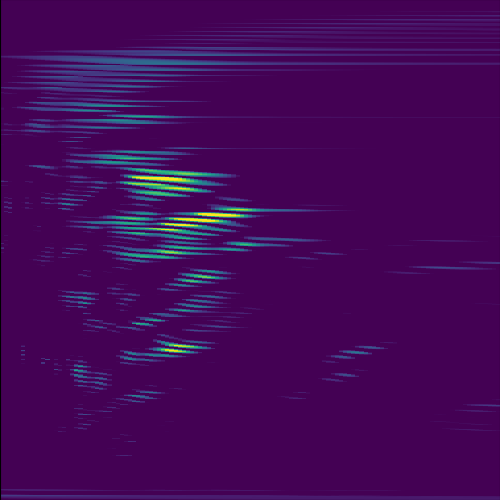semblance: (118, 166, 235, 201), (147, 202, 266, 234)
